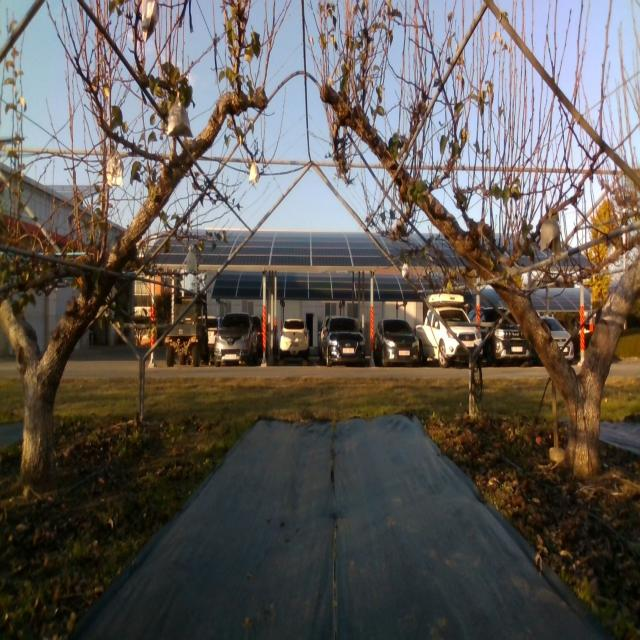pearbags: (167, 99, 194, 138), (141, 0, 160, 43), (540, 221, 562, 257), (106, 152, 123, 186), (186, 252, 198, 274), (248, 162, 260, 184)
